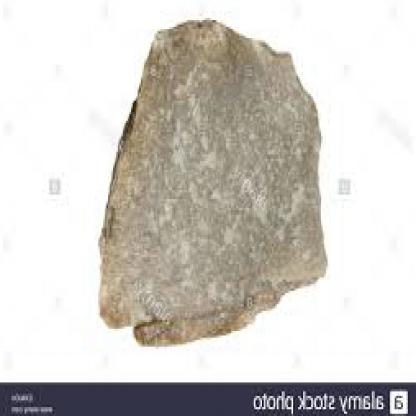Metamorphic_Quartize: (87, 5, 339, 351)
